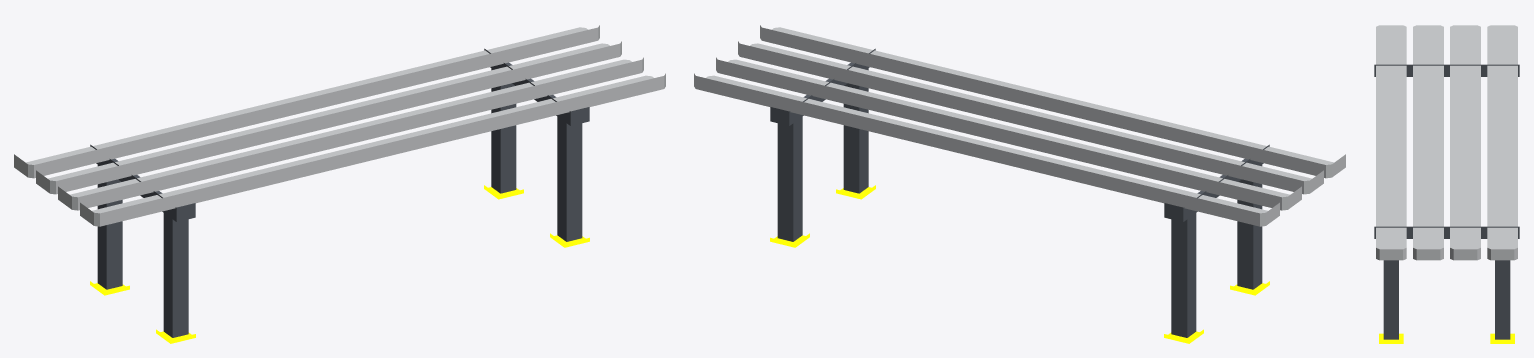
File: ext_bench_02.glb
The picture shows the model from 3 angles, left to right: view 1: azimuth 30°, elevation 25°; view 2: azimuth 150°, elevation 25°; view 3: azimuth 270°, elevation 25°; orthographic projection. The views are drawn at different scales.
Visible parts, largest first — view 1: Seat_Slats, Frame_Legs, Frame_Rails, Floor_Clamps; view 2: Seat_Slats, Frame_Legs, Frame_Rails, Floor_Clamps; view 3: Seat_Slats, Frame_Legs, Frame_Rails, Floor_Clamps.
Boxes of the visible parts, x1,y1,x2,y2 form: Seat_Slats: [14, 25, 665, 226]; Frame_Legs: [97, 68, 582, 337]; Frame_Rails: [90, 48, 589, 221]; Floor_Clamps: [90, 185, 589, 343]; Seat_Slats: [694, 25, 1345, 226]; Frame_Legs: [777, 68, 1262, 337]; Frame_Rails: [770, 48, 1269, 221]; Floor_Clamps: [770, 185, 1269, 343]; Seat_Slats: [1376, 25, 1517, 260]; Frame_Legs: [1383, 260, 1510, 339]; Frame_Rails: [1374, 64, 1519, 238]; Floor_Clamps: [1379, 333, 1514, 343].
Size of the model in its own units: 1.8 by 0.45 by 0.47.
